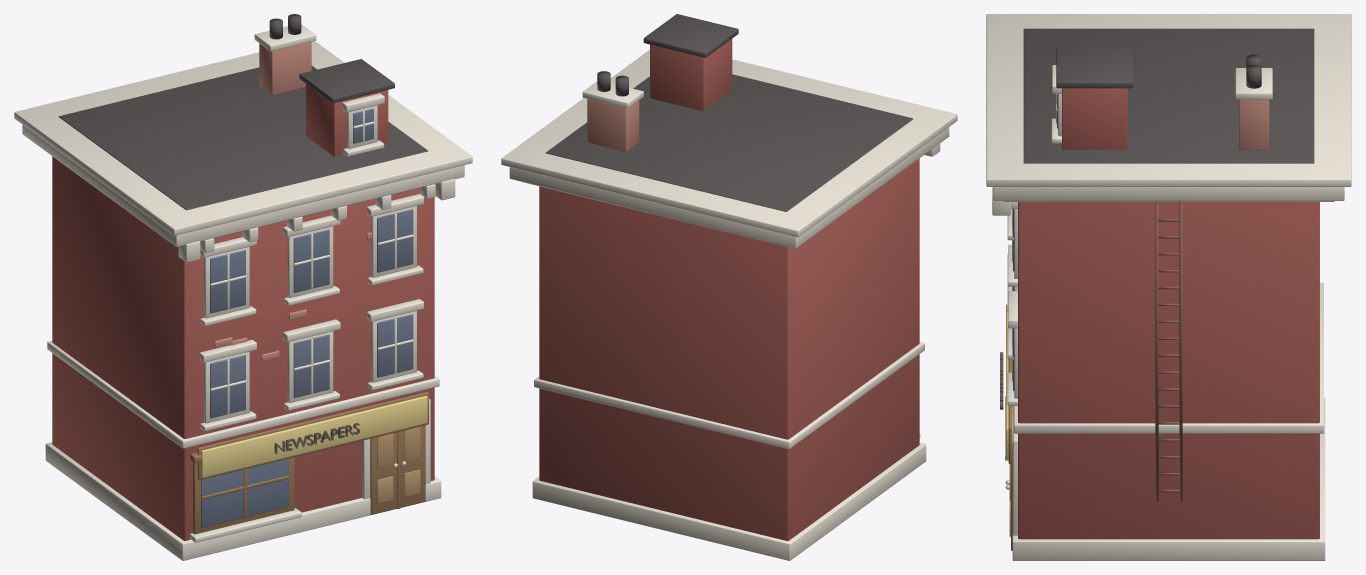
File: edificio_08.glb
3 renders of one model, left to right at view 1: azimuth 30°, elevation 25°; view 2: azimuth 150°, elevation 25°; view 3: azimuth 270°, elevation 25°, orthographic. The views are drawn at different scales.
Visible parts, largest first — view 1: corpo, tetto, cornicione_corona, zoccolo, insegna_h, cornicione_fascia, fascia_pt, vetrina_vetro_C, abbaino_corpo, abbaino_tetto, comignolo_fusto, fin_p2_1_vetro (+24 smaller); view 2: corpo, tetto, cornicione_corona, zoccolo, cornicione_fascia, abbaino_corpo, fascia_pt, abbaino_tetto, comignolo_fusto, comignolo_cappello; view 3: corpo, tetto, cornicione_corona, zoccolo, cornicione_fascia, abbaino_corpo, fascia_pt, abbaino_tetto, comignolo_fusto, lato_montante_0, lato_montante_1, comignolo_cappello (+1 smaller).
Part boxes in pixels (box(x1,y1,x2,y2)): corpo: box(52, 156, 434, 540); tetto: box(59, 65, 427, 210); cornicione_corona: box(14, 41, 472, 235); zoccolo: box(45, 442, 441, 560); insegna_h: box(201, 396, 427, 477); cornicione_fascia: box(22, 125, 464, 246); fascia_pt: box(47, 341, 439, 448); vetrina_vetro_C: box(201, 458, 288, 527); abbaino_corpo: box(306, 84, 388, 156); abbaino_tetto: box(299, 59, 394, 102); comignolo_fusto: box(259, 42, 311, 95); fin_p2_1_vetro: box(293, 229, 329, 292); corpo: box(539, 158, 919, 540); tetto: box(546, 74, 912, 211); cornicione_corona: box(501, 50, 957, 237); zoccolo: box(532, 442, 926, 560); cornicione_fascia: box(509, 127, 949, 248); abbaino_corpo: box(650, 39, 732, 111); fascia_pt: box(534, 342, 924, 449); abbaino_tetto: box(643, 14, 738, 57); comignolo_fusto: box(587, 99, 639, 152); comignolo_cappello: box(582, 81, 643, 108); corpo: box(1018, 202, 1319, 539); tetto: box(1023, 28, 1314, 163); cornicione_corona: box(986, 14, 1351, 186); zoccolo: box(1012, 398, 1325, 560); cornicione_fascia: box(993, 187, 1344, 200); abbaino_corpo: box(1062, 88, 1127, 149); fascia_pt: box(1014, 282, 1323, 433); abbaino_tetto: box(1056, 48, 1133, 88); comignolo_fusto: box(1239, 99, 1269, 150); lato_montante_0: box(1155, 201, 1158, 501); lato_montante_1: box(1179, 201, 1182, 501); comignolo_cappello: box(1235, 68, 1272, 99).
Size of the model in its own units: 7.15 by 9.46 by 6.65.
